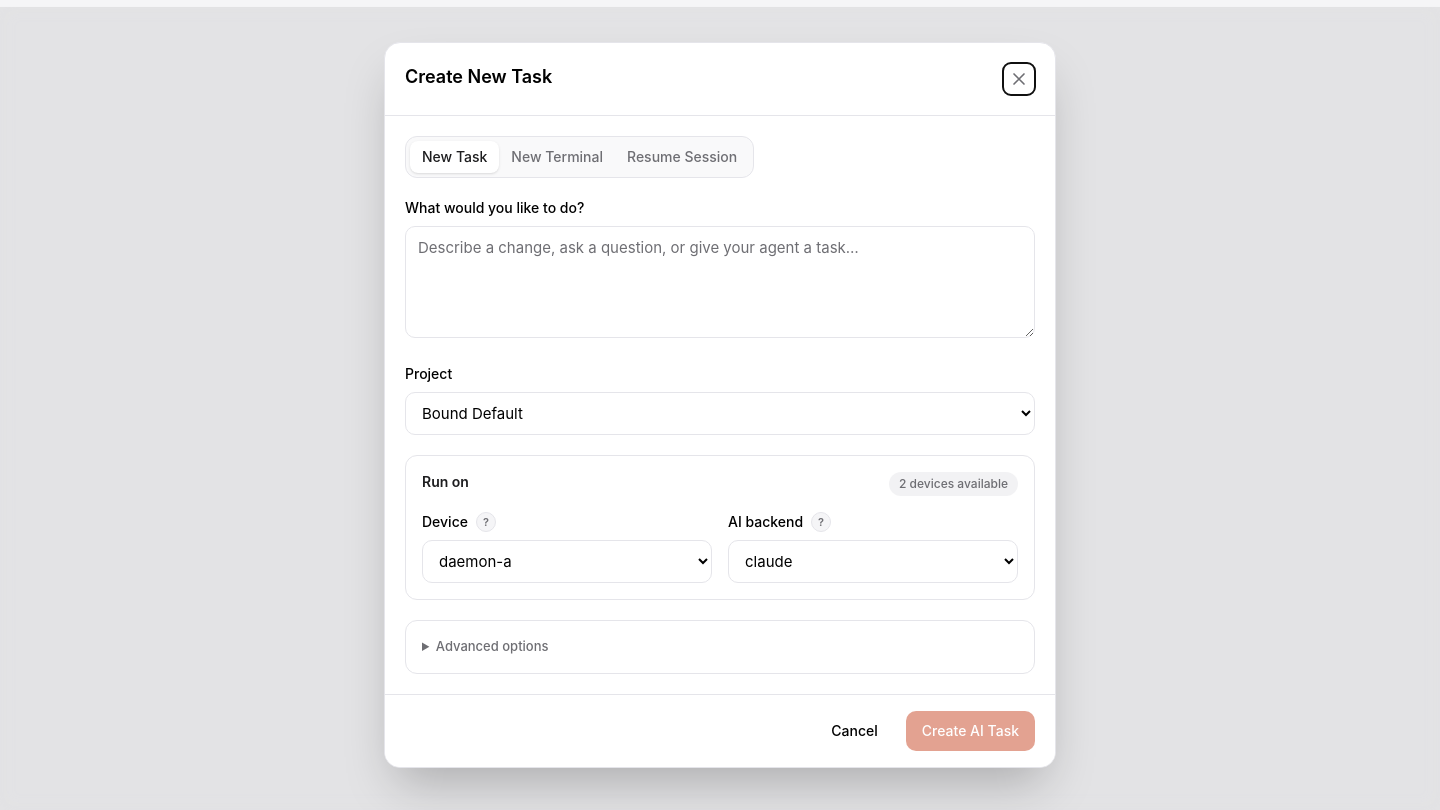
CreateTaskDialog › cannot open a terminal on a daemon with no project when the default project is bound elsewhere
What coordinates should you click on to do the following:
click the tab "New Terminal"
I would click on:
 (557, 157)
Its box is left=499, top=141, right=615, bottom=173.
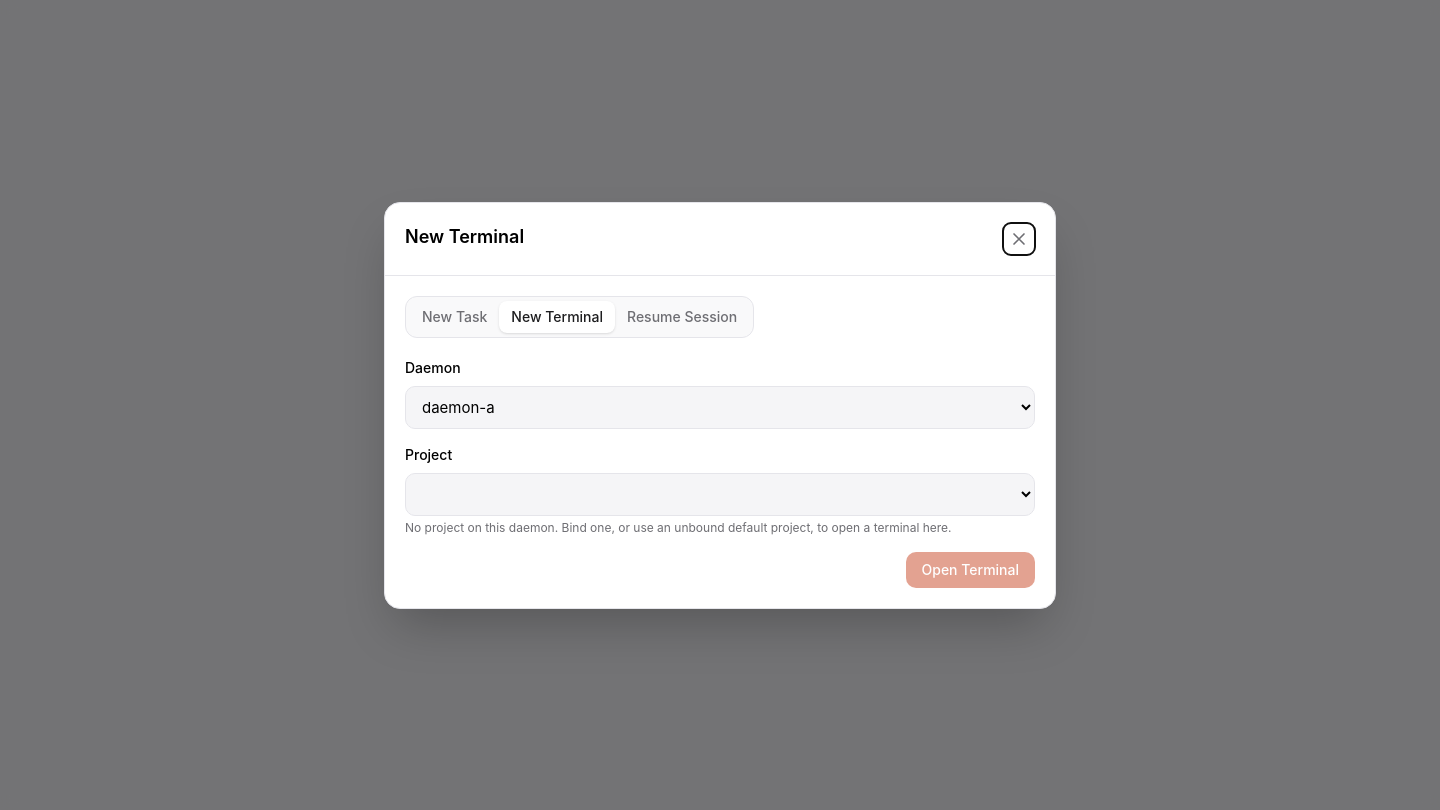
Expected: the button "Open Terminal" is disabled, left=906, top=552, right=1035, bottom=588
Expected: the text "No project on this daemon" is shown, left=405, top=520, right=952, bottom=534
